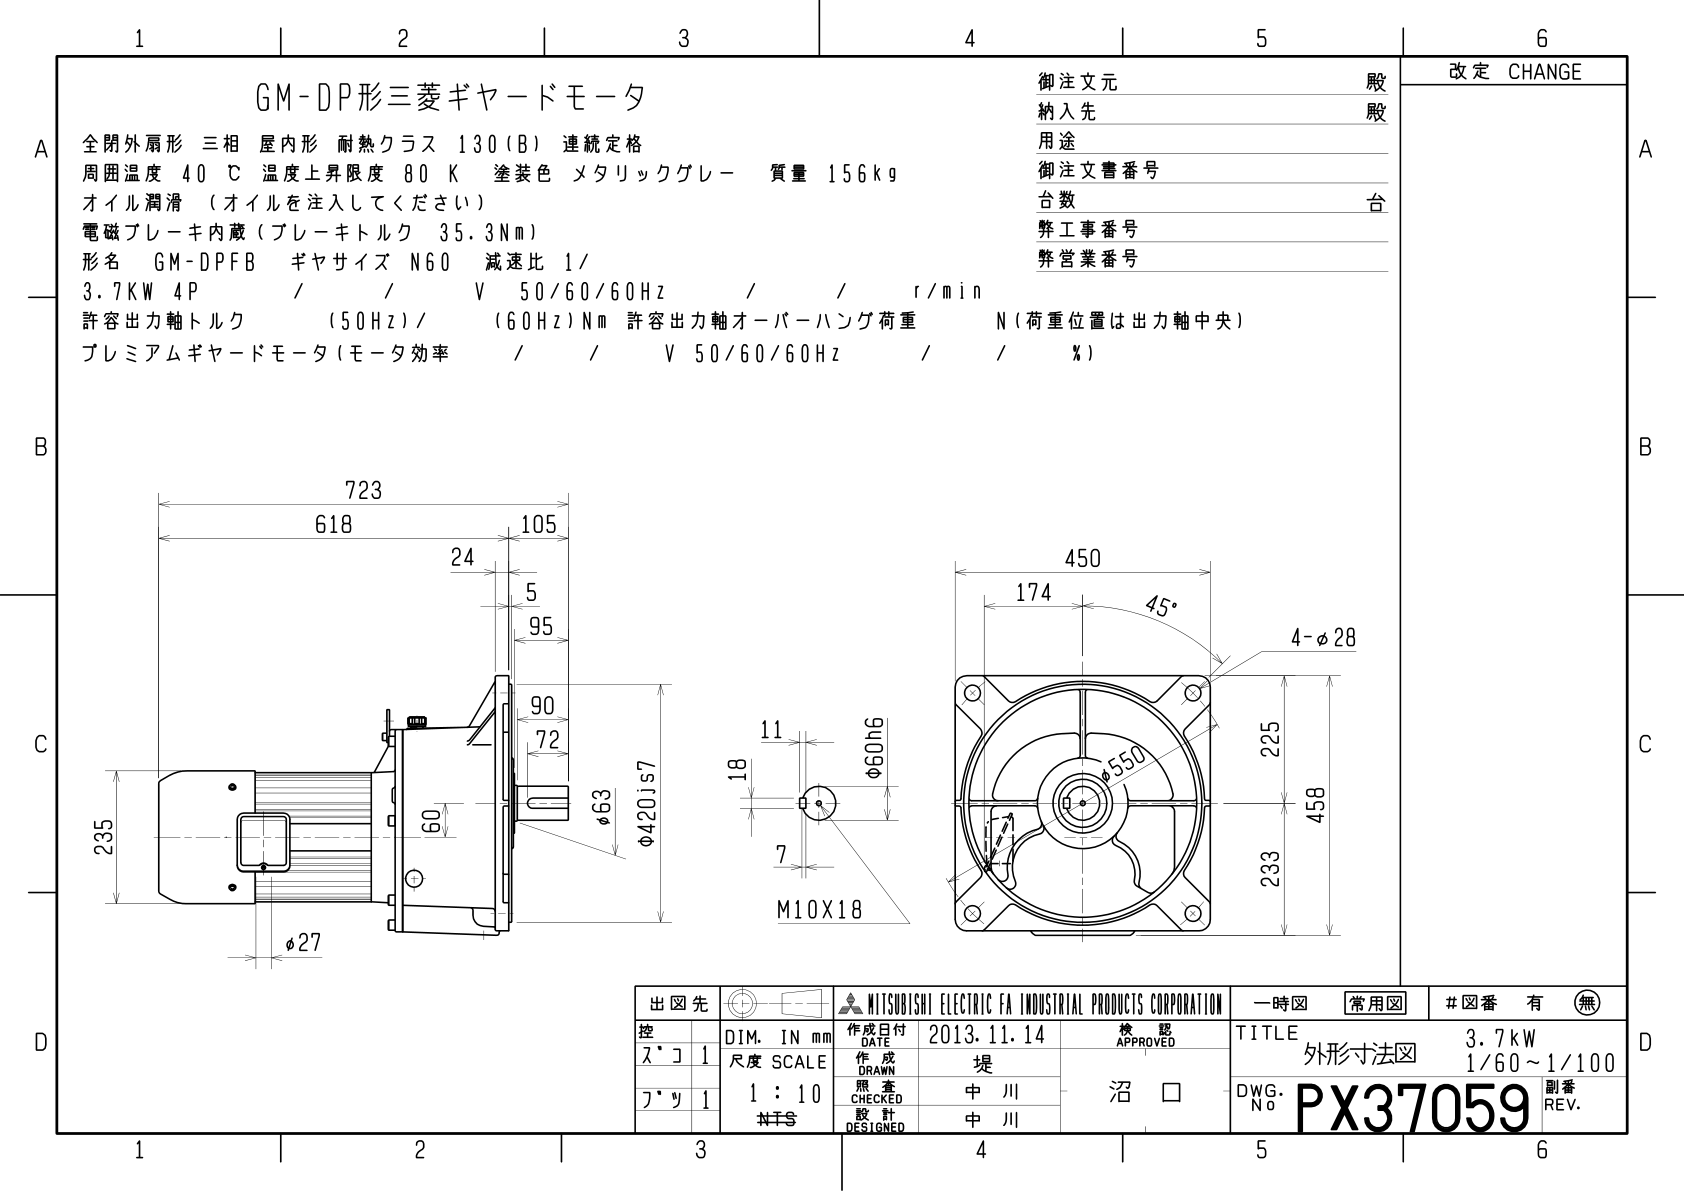GM_DP_屋内_三相_フランジ: (73, 433, 1373, 959)
